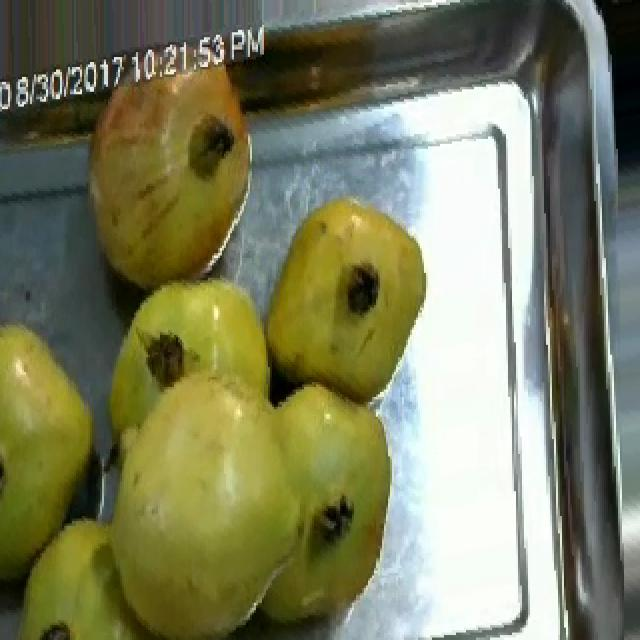fruit: (66, 40, 272, 302), (256, 176, 438, 404), (2, 491, 156, 640)
